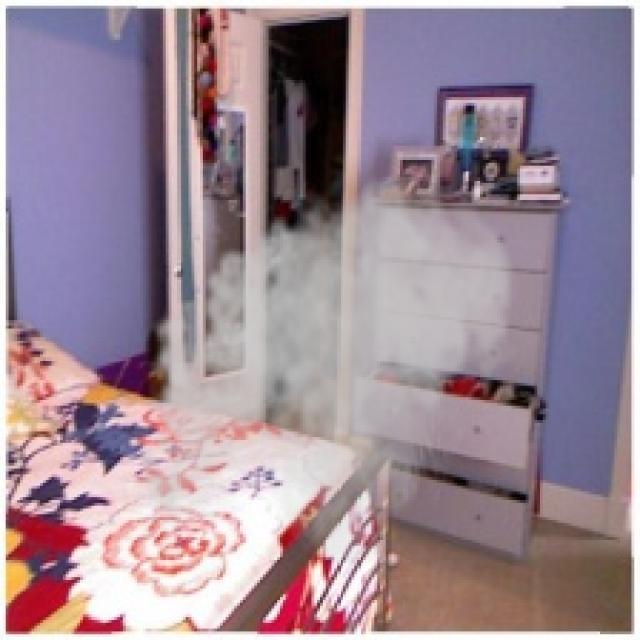Smoke: (126, 163, 523, 563)
